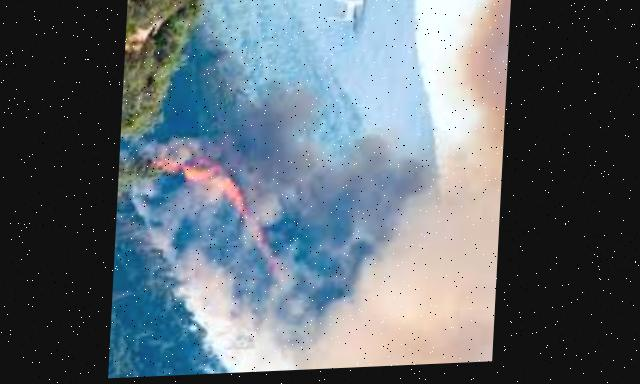drone: (321, 0, 388, 36)
